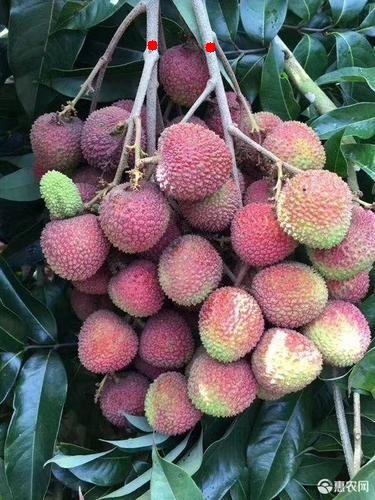litchi: (32, 105, 375, 430)
stem: (192, 1, 225, 95), (139, 1, 160, 85)
